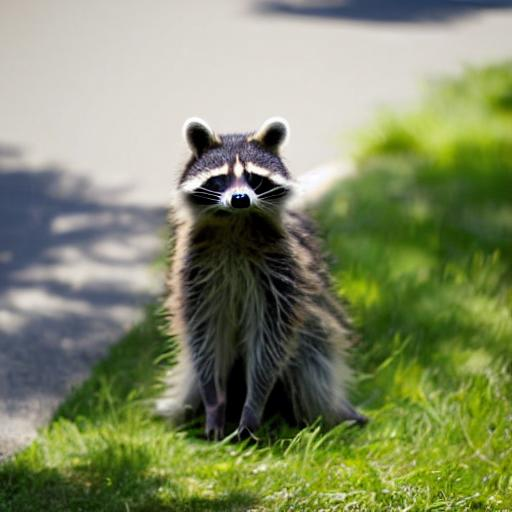raccoon: (159, 108, 348, 408)
